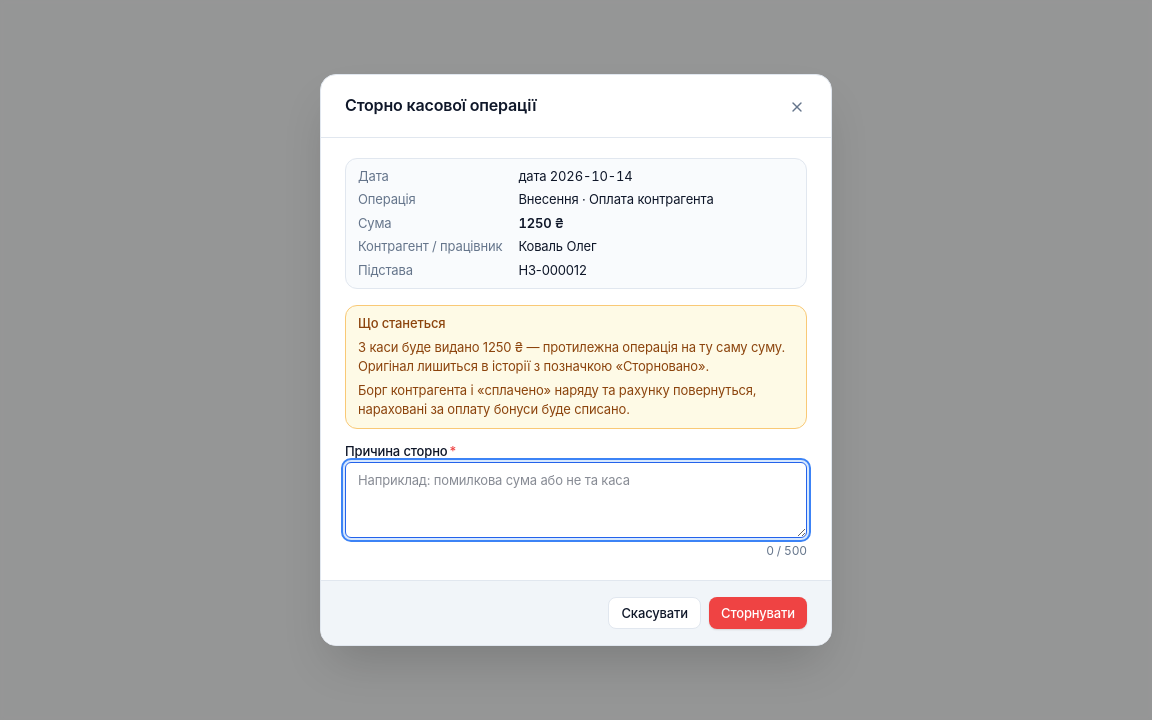
Scenario: CashReversalModal › причина › порожня — помилка біля поля, запиту немає
This screenshot has width=1152, height=720.
Click the button "Сторнувати" at (758, 613), box [709,597,807,629]
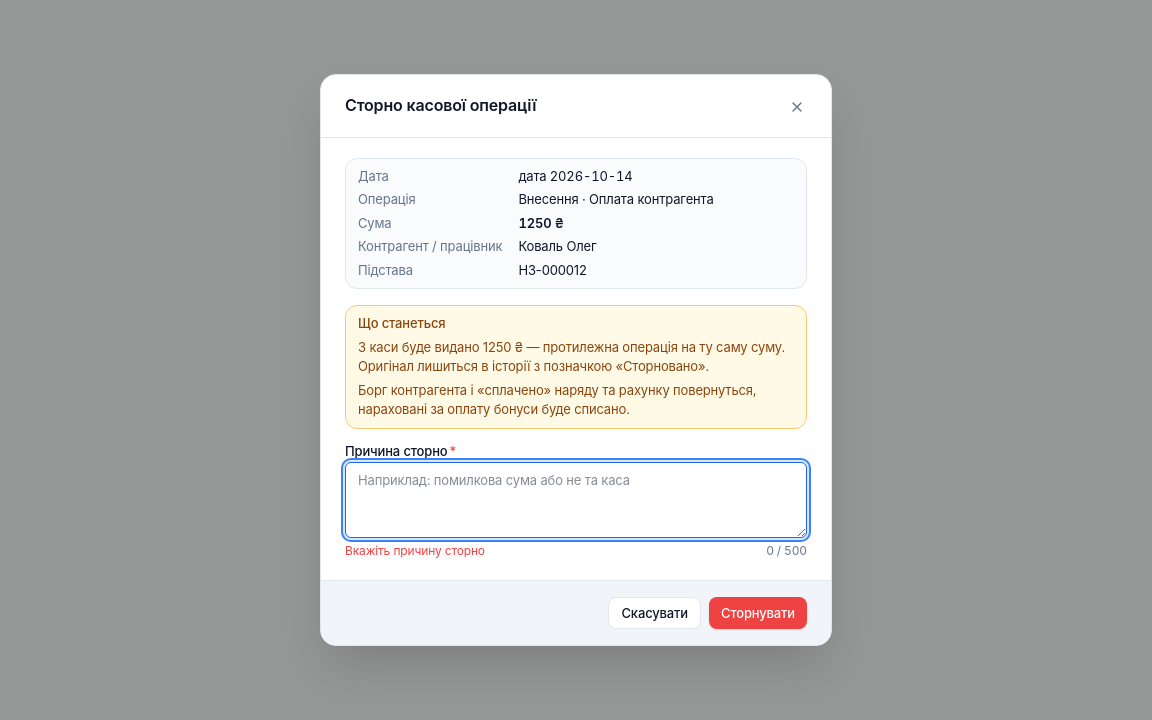
Expected: the text "Вкажіть причину сторно" is shown, [345,542,485,560]
